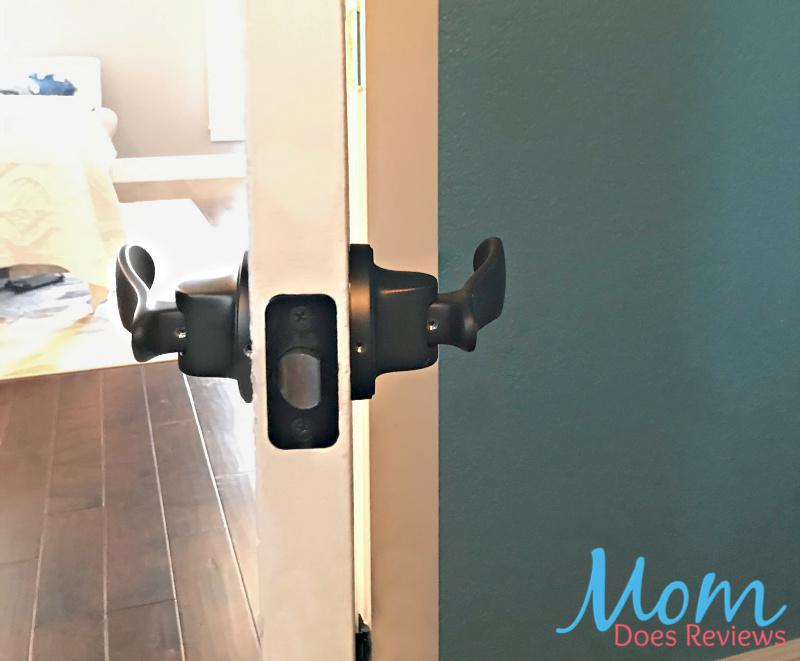doorhandle: (361, 225, 569, 414), (78, 213, 261, 417)
